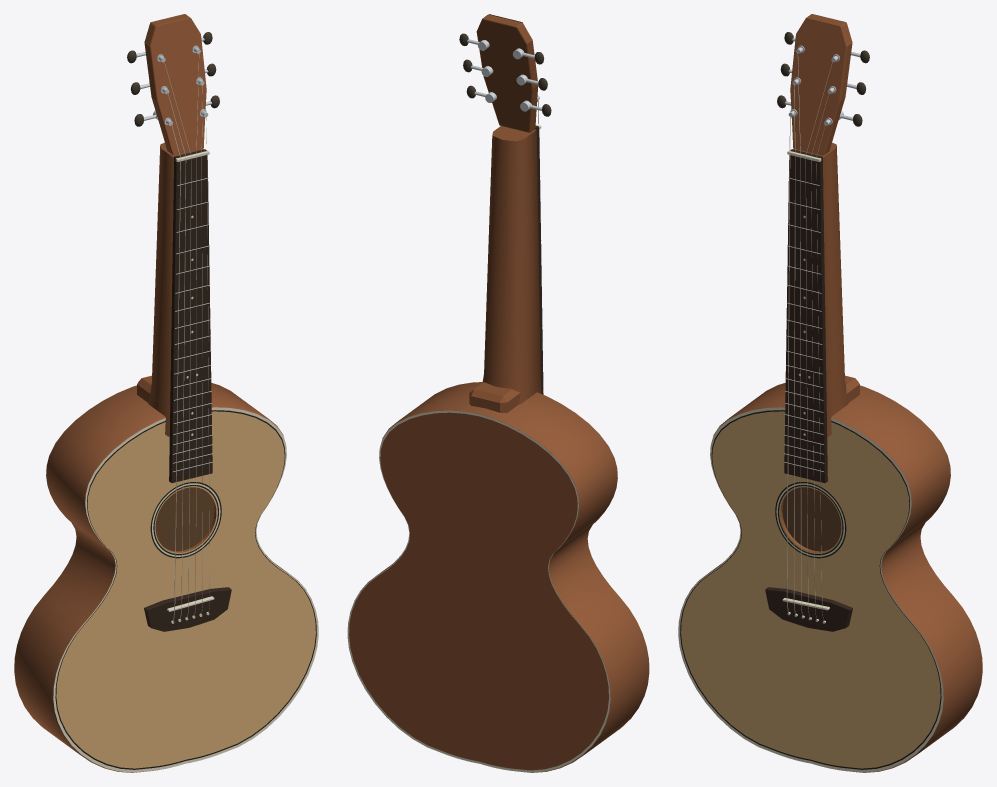
The model's file is Guitar_fixed.fbx.
3 renders of one model, left to right at view 1: azimuth 30°, elevation 25°; view 2: azimuth 150°, elevation 25°; view 3: azimuth 330°, elevation 25°, orthographic.
Visible parts, largest first — view 1: Body_Closed_Interior, Fingerboard_Fixed, Neck_Fixed, Binding_Fixed, Strings_Fixed, Bridge_and_nut_Fixed, Tuners_Fixed, Frets_Fixed, Rosette_Fixed; view 2: Body_Closed_Interior, Neck_Fixed, Binding_Fixed, Tuners_Fixed, Fingerboard_Fixed; view 3: Body_Closed_Interior, Fingerboard_Fixed, Neck_Fixed, Binding_Fixed, Strings_Fixed, Bridge_and_nut_Fixed, Tuners_Fixed, Frets_Fixed, Rosette_Fixed.
Boxes of the visible parts, x1,y1,x2,y2 form: Body_Closed_Interior: (14,383,315,772); Fingerboard_Fixed: (169,149,212,482); Neck_Fixed: (137,14,206,436); Binding_Fixed: (14,394,318,772); Strings_Fixed: (163,52,209,622); Bridge_and_nut_Fixed: (144,150,231,631); Tuners_Fixed: (127,32,219,126); Frets_Fixed: (172,178,212,471); Rosette_Fixed: (150,482,221,558); Body_Closed_Interior: (349,382,649,772); Neck_Fixed: (469,14,541,412); Binding_Fixed: (347,395,649,772); Tuners_Fixed: (459,33,551,116); Fingerboard_Fixed: (535,126,543,394); Body_Closed_Interior: (681,383,982,772); Fingerboard_Fixed: (784,149,827,482); Neck_Fixed: (790,14,859,436); Binding_Fixed: (678,394,982,772); Strings_Fixed: (786,52,832,621); Bridge_and_nut_Fixed: (765,150,852,631); Tuners_Fixed: (777,32,869,126); Frets_Fixed: (784,178,824,471); Rosette_Fixed: (775,482,846,558).
Size of the model in its own units: 0.394 by 1.04 by 0.1206.
